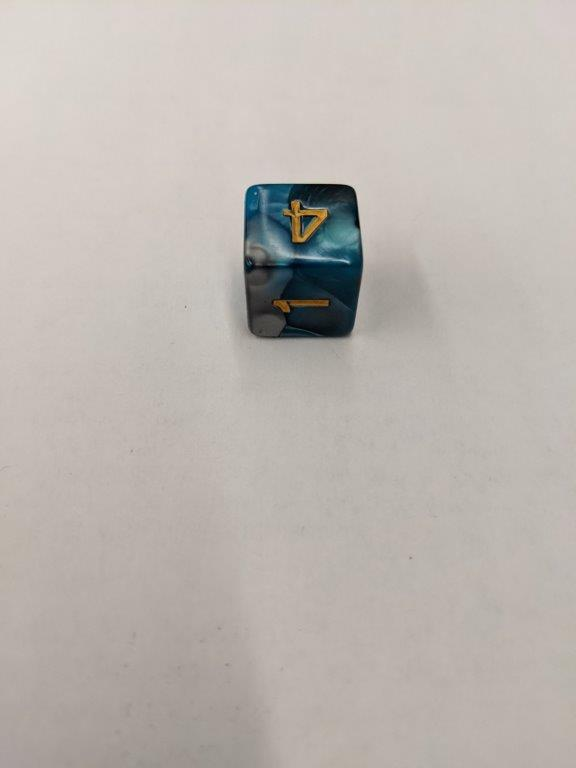d6-4: (237, 180, 363, 338)
